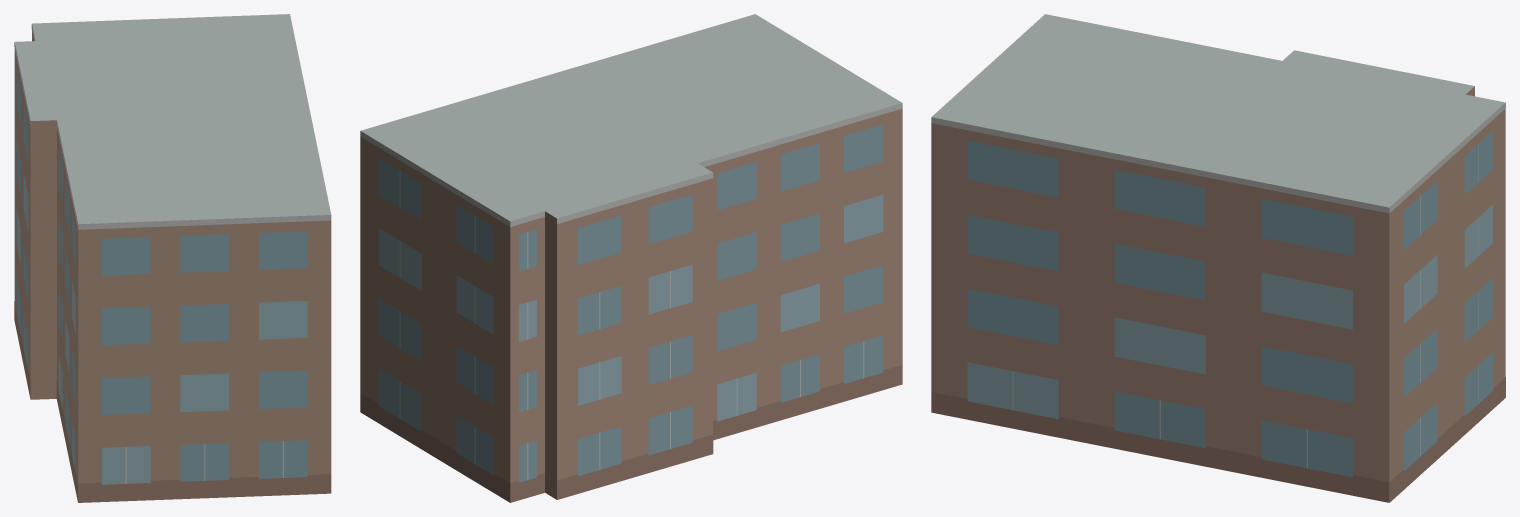
The model's file is residential-9c2fbd47-c1d0-463c-a95d-010fcf2bc0d7.glb.
The picture shows the model from 3 angles, left to right: view 1: azimuth 30°, elevation 25°; view 2: azimuth 150°, elevation 25°; view 3: azimuth 270°, elevation 25°; orthographic projection. The views are drawn at different scales.
Parts seen in each view (by area): view 1: residential-9c2fbd47-c1d0-463c-a95d-010fcf2bc0d7.tmp; view 2: residential-9c2fbd47-c1d0-463c-a95d-010fcf2bc0d7.tmp; view 3: residential-9c2fbd47-c1d0-463c-a95d-010fcf2bc0d7.tmp.
Part boxes in pixels (box(x1,y1,x2,y2)): residential-9c2fbd47-c1d0-463c-a95d-010fcf2bc0d7.tmp: box(14, 14, 331, 502); residential-9c2fbd47-c1d0-463c-a95d-010fcf2bc0d7.tmp: box(360, 14, 902, 502); residential-9c2fbd47-c1d0-463c-a95d-010fcf2bc0d7.tmp: box(931, 14, 1505, 502).
Size of the model in its own units: 17.16 by 12.2 by 21.52.
